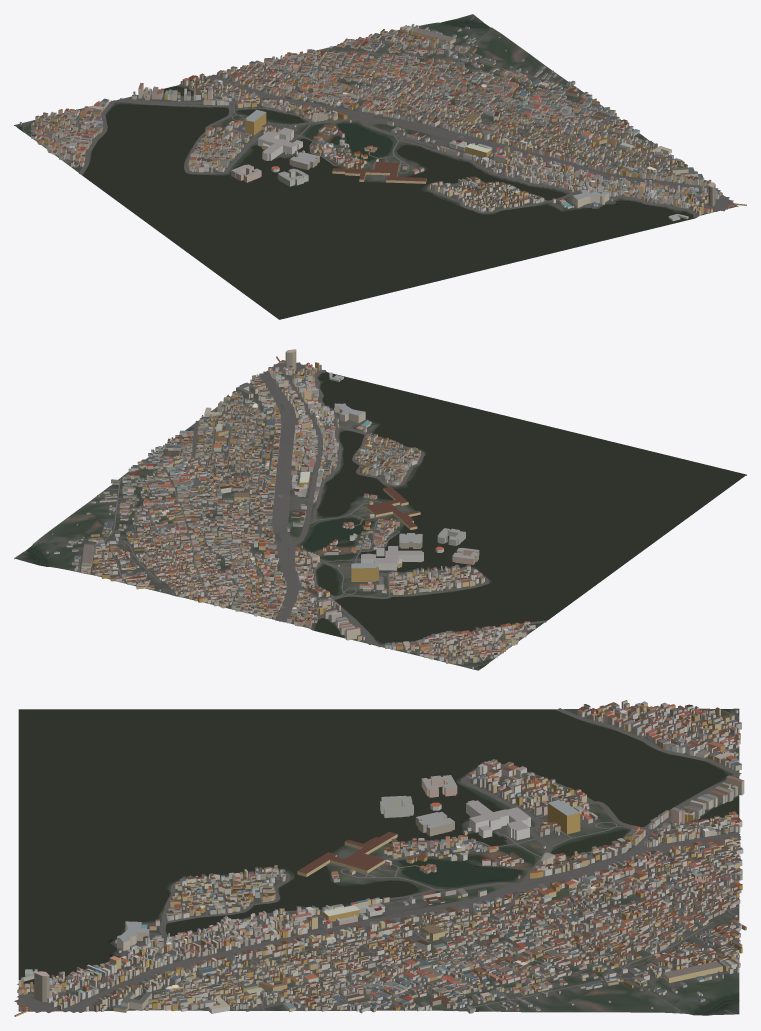
The picture shows the model from 3 angles, top to bottom: view 1: azimuth 30°, elevation 25°; view 2: azimuth 150°, elevation 25°; view 3: azimuth 270°, elevation 25°; orthographic projection. The views are drawn at different scales.
Visible parts, largest first — view 1: water, buildings, ground, roads; view 2: water, buildings, ground, roads; view 3: water, buildings, ground, roads.
Boxes of the visible parts, x1,y1,x2,y2 form: water: (18, 19, 693, 319); buildings: (19, 24, 746, 221); ground: (14, 14, 738, 319); roads: (23, 15, 737, 217); water: (26, 372, 745, 667); buildings: (46, 349, 535, 668); ground: (14, 360, 746, 670); roads: (16, 360, 546, 666); water: (19, 709, 739, 1015); buildings: (14, 700, 746, 1016); ground: (18, 708, 739, 1015); roads: (14, 708, 741, 1014).
Bounding box in the file's own units: 1430 × 67.82 × 1425.
